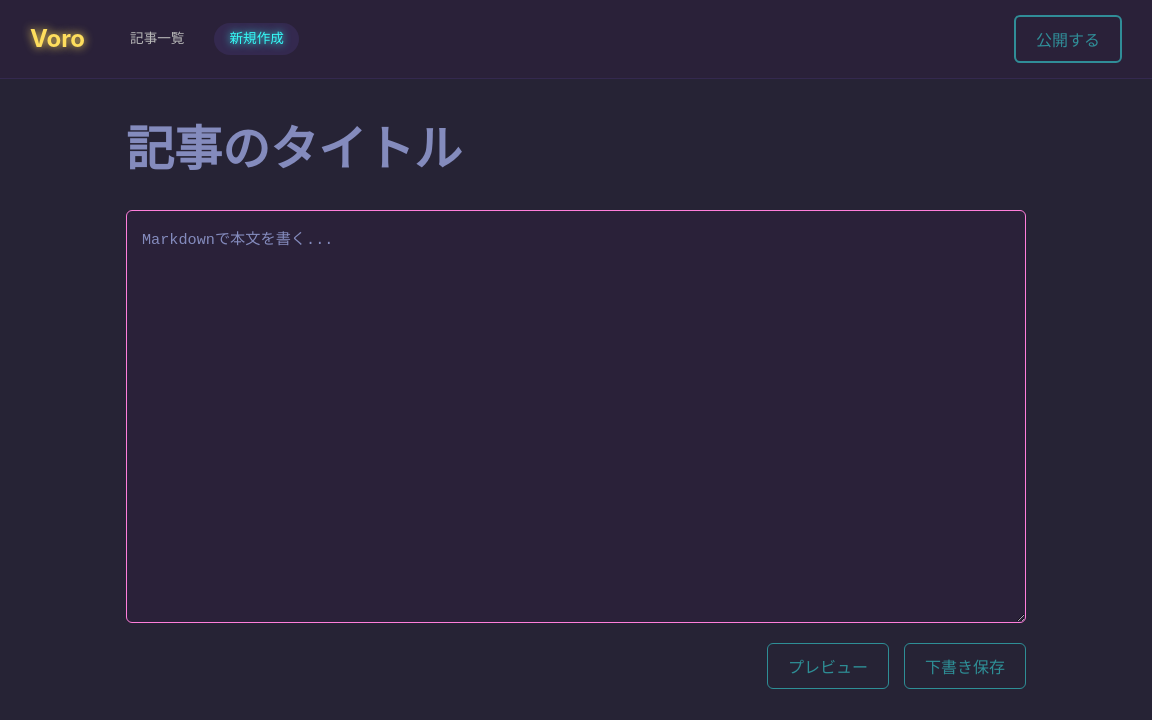
Test case: PostEditorPage - Create Mode › shows validation error when submitting empty title
Expected: the field with placeholder "記事のタイトル" is shown, [126, 109, 1026, 190]
Type "Test content" into the text box with placeholder "Markdownで本文を書く...". click: (576, 416)
box: [126, 210, 1026, 623]
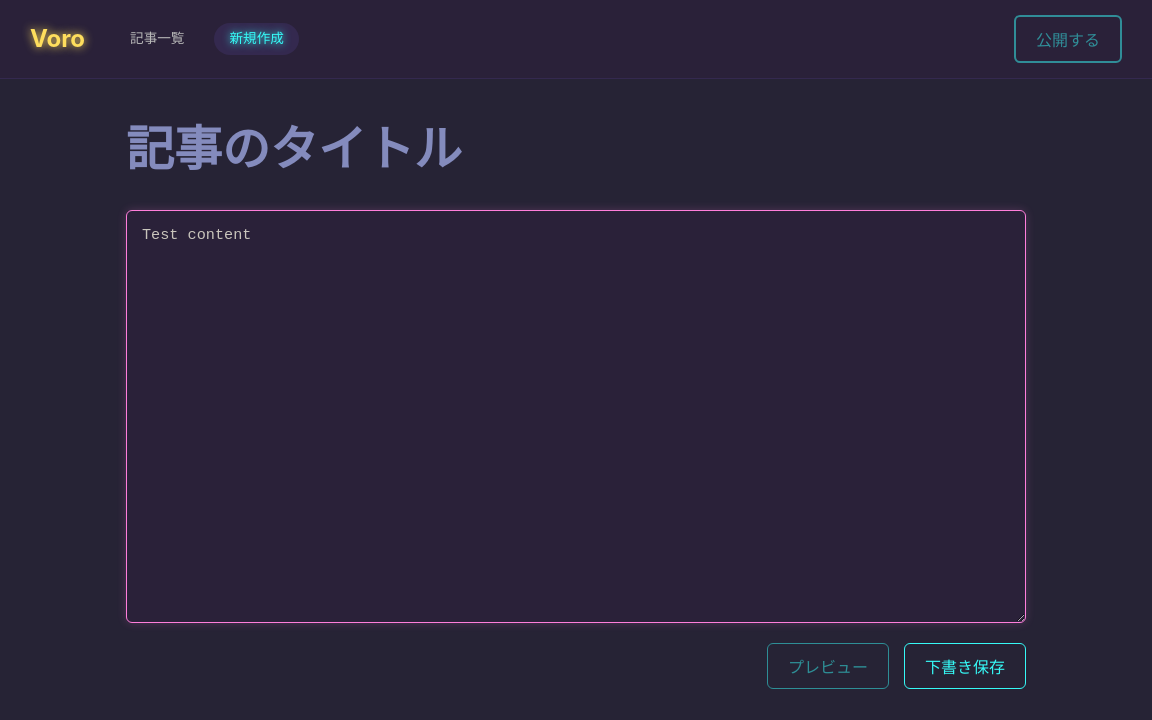
Click the button "下書き保存". click: (965, 666)
box: [904, 643, 1026, 689]
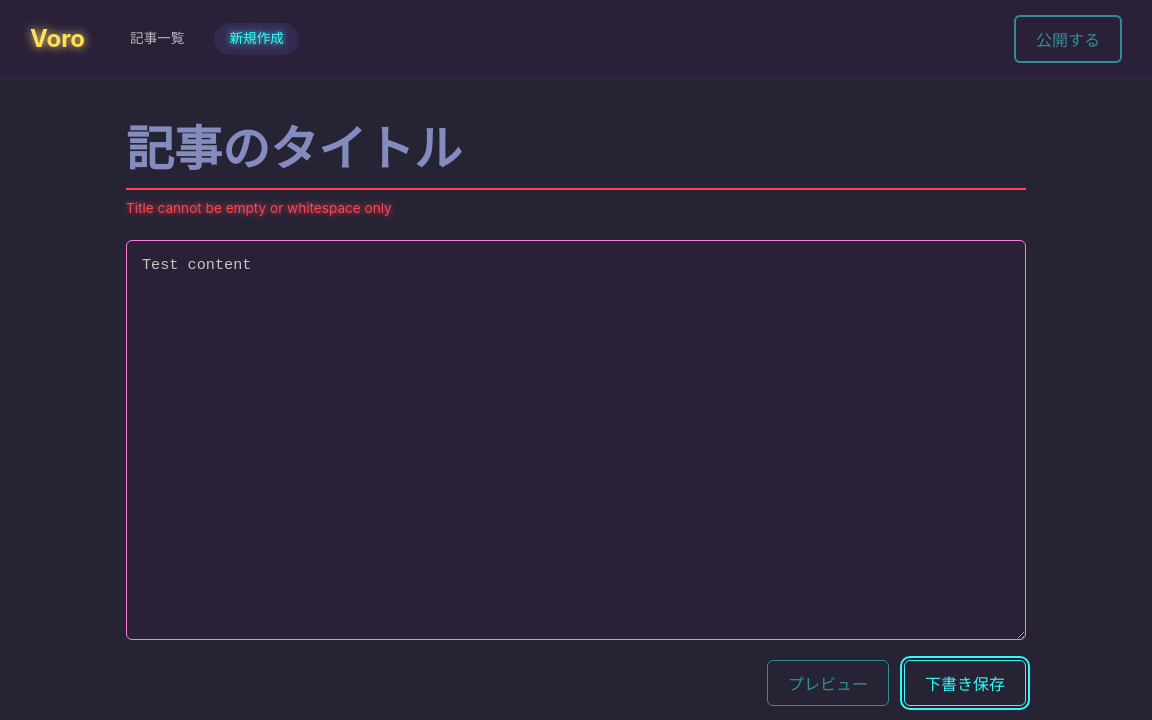
Expected: the text "Title cannot be empty or whitespace only" is shown, [126, 200, 392, 216]
